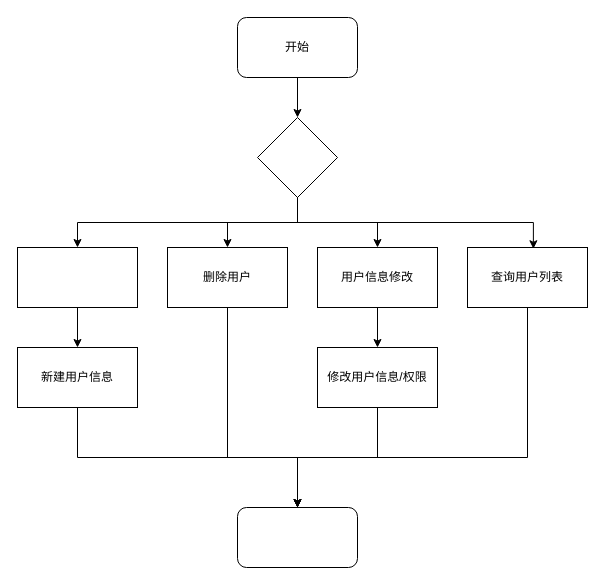
Image size: 605x585. Some labels were removed from this diagram. Each missing label, with the centre of its shape:
功能选择: point (297, 157)
新用户注册: point (77, 277)
结束: point (297, 537)
